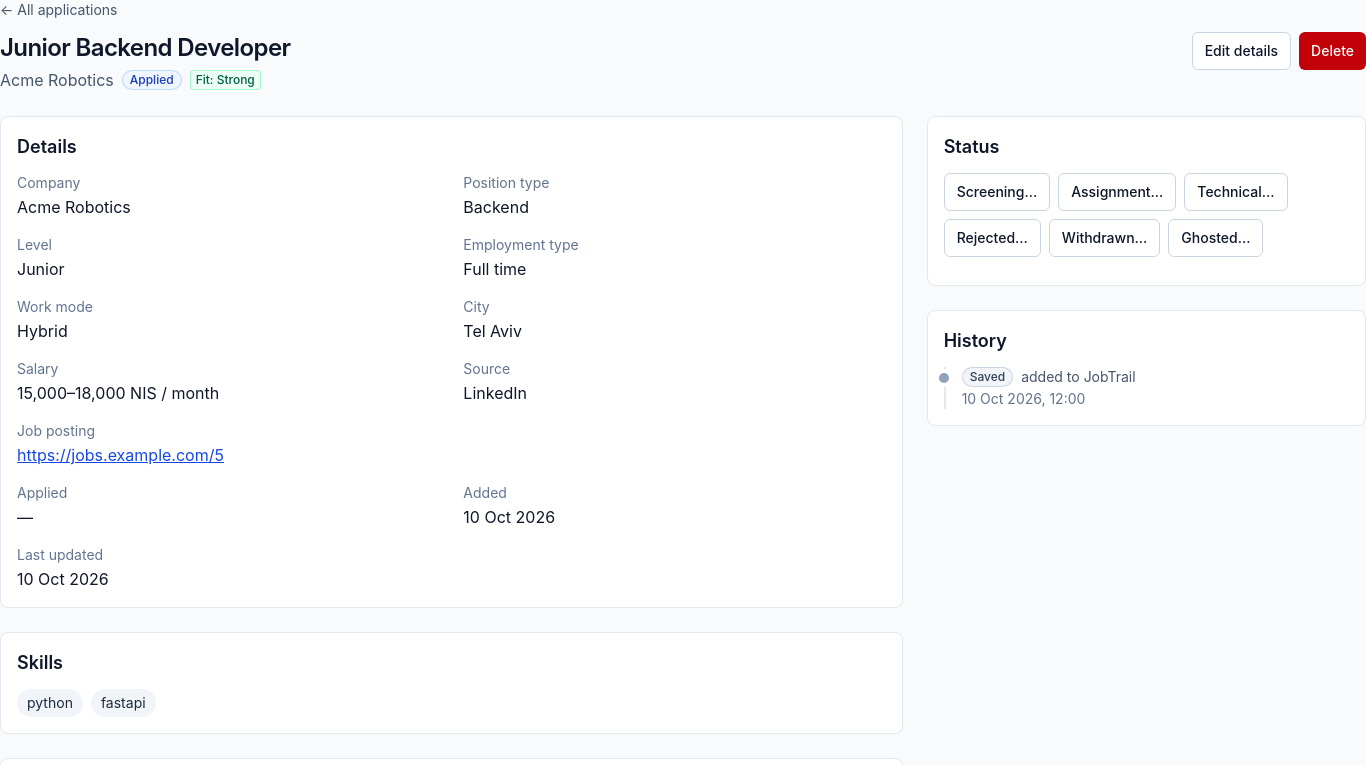
it: ApplicationDetailPage › moves to another status with a note and a backdated day
Click the button "Screening…".
click(997, 192)  # box [944,173,1050,211]
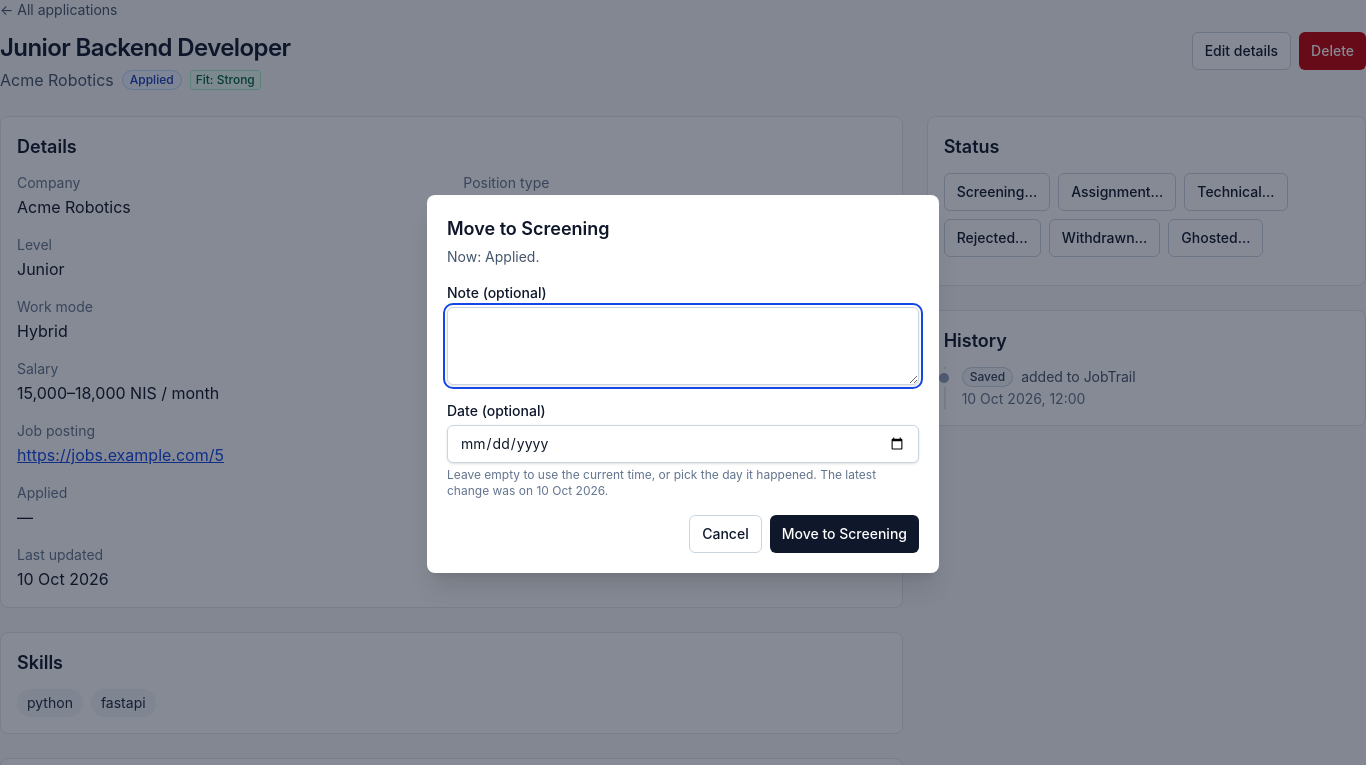
Type "Phone screen with HR" into the text box labelled "Note (optional)".
click(683, 346); type("Phone screen with HR")  # box [447,307,919,385]
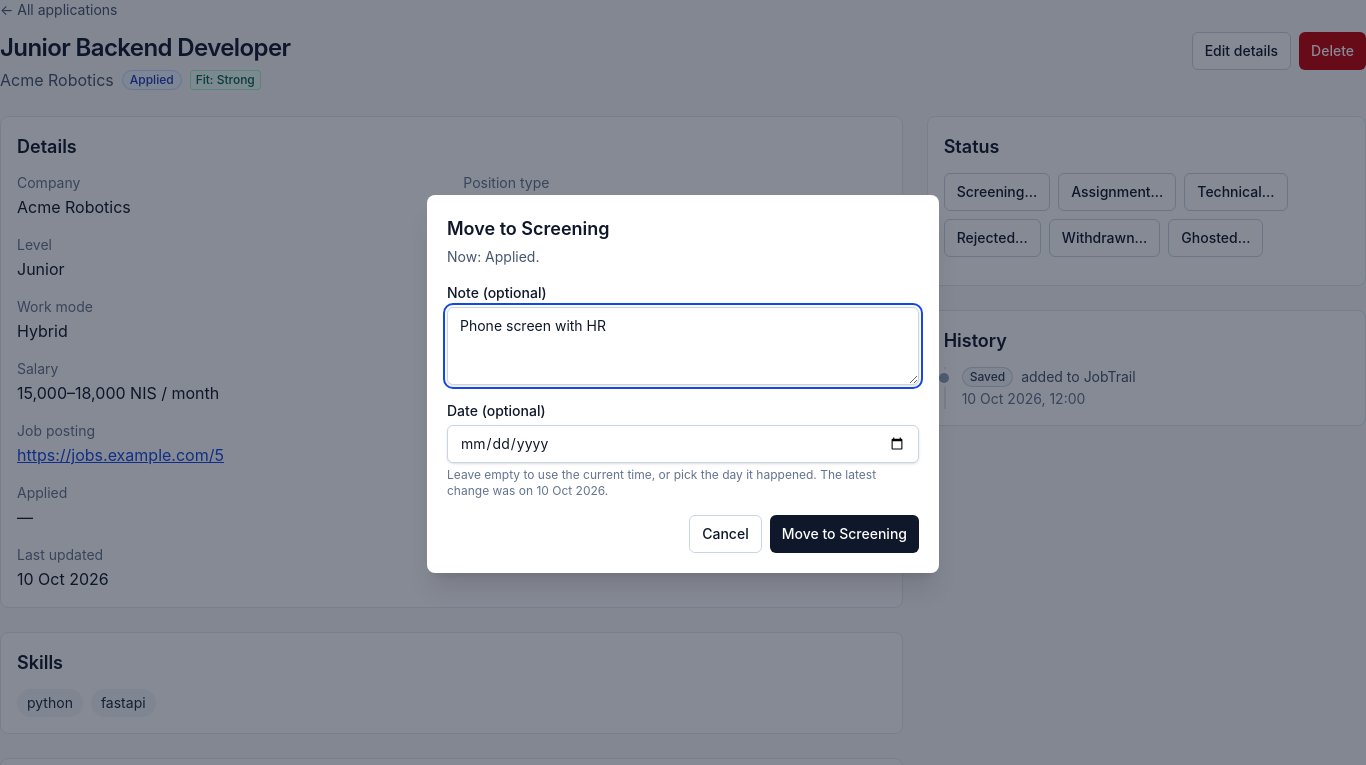
Type "2026-10-17" into the date field labelled "Date (optional)".
click(683, 444); type("2026-10-17")  # box [447,425,919,463]
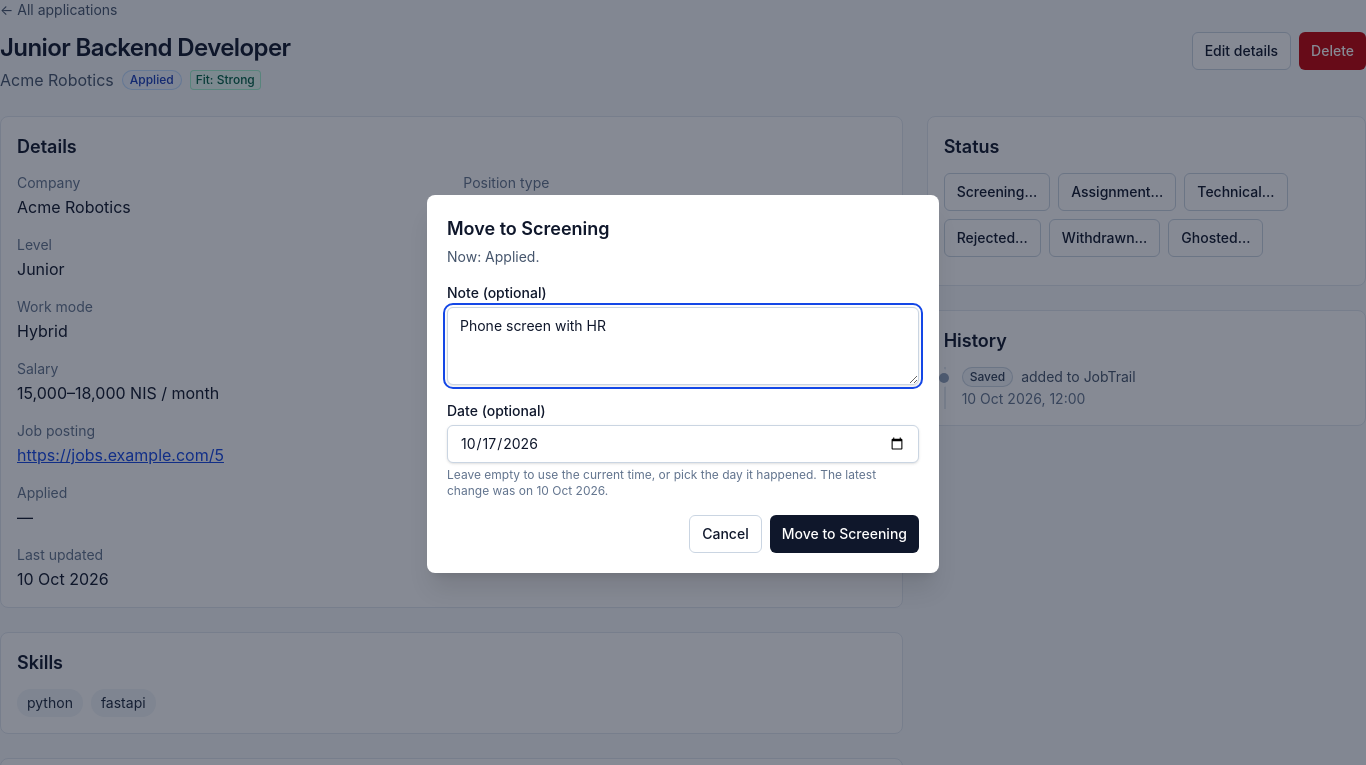
Click the button "Move to Screening".
click(844, 534)  # box [770,515,919,553]
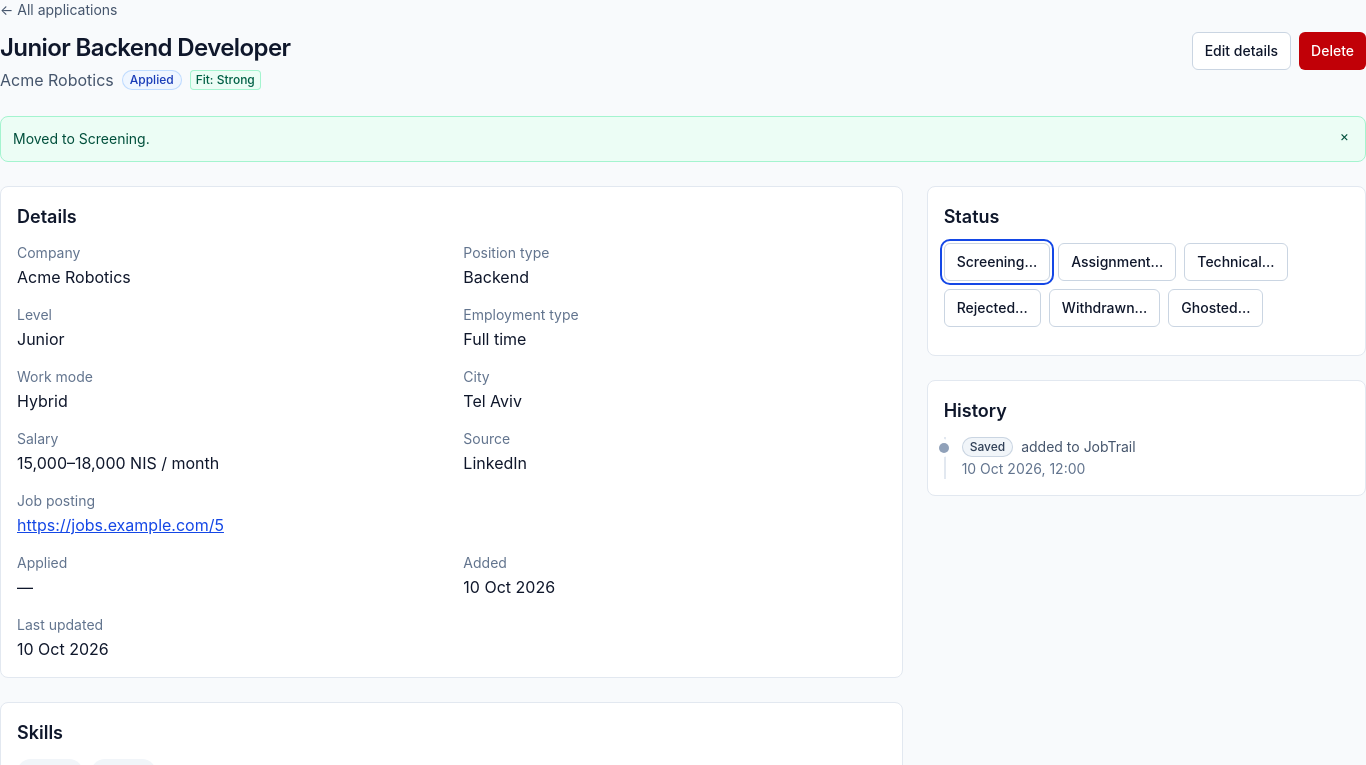
Check: the text "Moved to Screening." is shown, box [13,130,150,147]
Check: the dialog is gone
